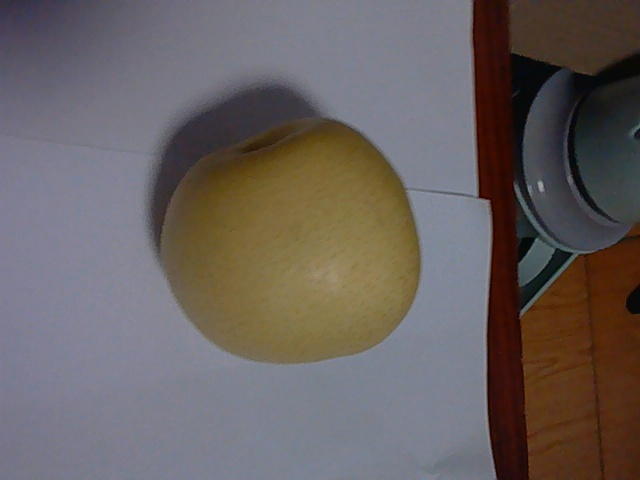pear: (161, 120, 418, 364)
